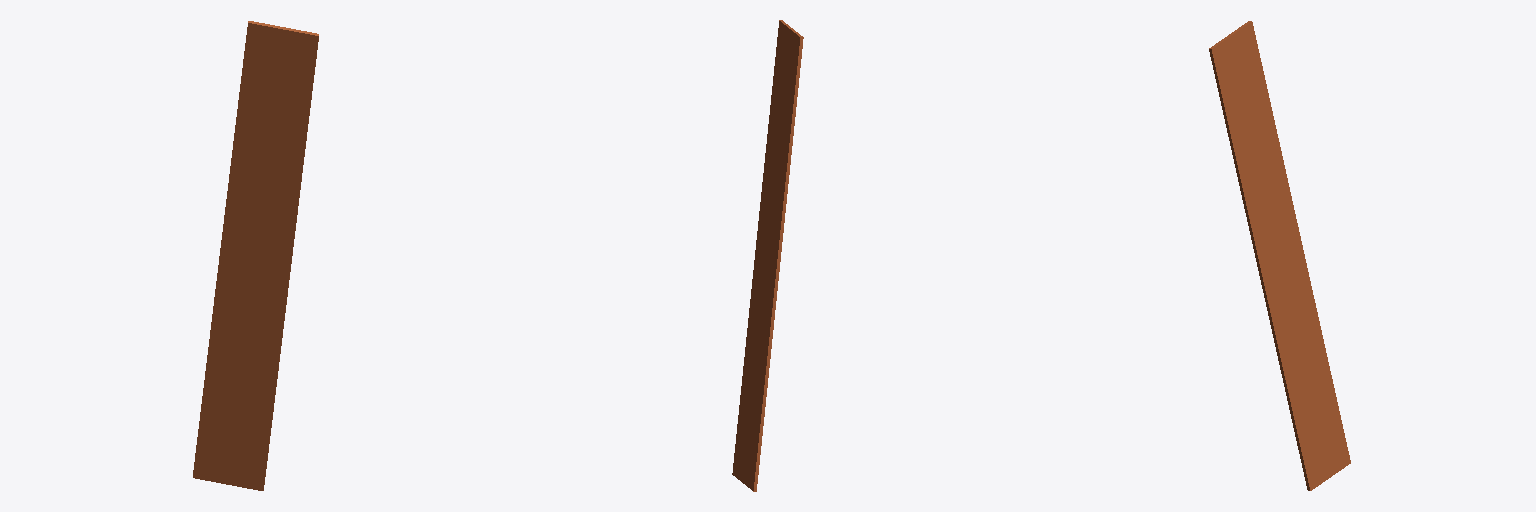
The robot description file, URDF, robot "panda_arm_bat":
<?xml version='1.0' encoding='utf-8'?>
<robot name="panda_arm_bat">

	<link name="link0">
		<inertial>
			<origin xyz="0 0 0.05" rpy="0 0 0" />
			<mass value="4" />
			<inertia ixx="0.4" iyy="0.4" izz="0.4" ixy="0" ixz="0" iyz="0" />
		</inertial>
		<visual>
			<geometry>
				<mesh filename="meshes/visual/link0.obj"/>
			</geometry>
		</visual>
		<!-- <collision>
			<geometry>
				<mesh filename="meshes/collision/link0.obj"/>
			</geometry>
		</collision> -->
	</link>
	<link name="link1">
		<inertial>
			<origin xyz="0 0 -0.07" rpy="0 -0 0" />
			<mass value="3" />
			<inertia ixx="0.3" iyy="0.3" izz="0.3" ixy="0" ixz="0" iyz="0" />
		</inertial>
		<visual>
			<geometry>
				<mesh filename="meshes/visual/link1.obj"/>
			</geometry>
		</visual>
		<!-- <collision>
			<geometry>
				<mesh filename="meshes/collision/link1.obj"/>
			</geometry>
		</collision> -->
	</link>
	<link name="link2">
		<inertial>
			<origin xyz="0 -0.1 0" rpy="0 -0 0" />
			<mass value="3" />
			<inertia ixx="0.3" iyy="0.3" izz="0.3" ixy="0" ixz="0" iyz="0" />
		</inertial>
		<visual>
			<geometry>
				<mesh filename="meshes/visual/link2.obj"/>
			</geometry>
		</visual>
		<!-- <collision>
			<geometry>
				<mesh filename="meshes/collision/link2.obj"/>
			</geometry>
		</collision> -->
	</link>
	<link name="link3">
		<inertial>
			<origin xyz="0.04 0 -0.05" rpy="0 -0 0" />
			<mass value="2" />
			<inertia ixx="0.2" iyy="0.2" izz="0.2" ixy="0" ixz="0" iyz="0" />
		</inertial>
		<visual>
			<geometry>
				<mesh filename="meshes/visual/link3.obj"/>
			</geometry>
		</visual>
		<!-- <collision>
			<geometry>
				<mesh filename="meshes/collision/link3.obj"/>
			</geometry>
		</collision> -->
	</link>
	<link name="link4">
		<inertial>
			<origin xyz="-0.04 0.05 0" rpy="0 -0 0" />
			<mass value="2" />
			<inertia ixx="0.2" iyy="0.2" izz="0.2" ixy="0" ixz="0" iyz="0" />
		</inertial>
		<visual>
			<geometry>
				<mesh filename="meshes/visual/link4.obj"/>
			</geometry>
		</visual>
		<!-- <collision>
			<geometry>
				<mesh filename="meshes/collision/link4.obj"/>
			</geometry>
		</collision> -->
	</link>
	<link name="link5">
		<inertial>
			<origin xyz="0 0 -0.15" rpy="0 -0 0" />
			<mass value="2" />
			<inertia ixx="0.2" iyy="0.2" izz="0.2" ixy="0" ixz="0" iyz="0" />
		</inertial>
		<visual>
			<geometry>
				<mesh filename="meshes/visual/link5.obj"/>
			</geometry>
		</visual>
		<!-- <collision>
			<geometry>
				<mesh filename="meshes/collision/link5.obj"/>
			</geometry>
		</collision> -->
	</link>
	<link name="link6">
		<inertial>
			<origin xyz="0.06 0 0" rpy="0 -0 0" />
			<mass value="1.5" />
			<inertia ixx="0.1" iyy="0.1" izz="0.1" ixy="0" ixz="0" iyz="0" />
		</inertial>
		<visual>
			<geometry>
				<mesh filename="meshes/visual/link6.obj"/>
			</geometry>
		</visual>
		<!-- <collision>
			<geometry>
				<mesh filename="meshes/collision/link6.obj"/>
			</geometry>
		</collision> -->
	</link>
	<link name="link7">
		<inertial>
			<origin xyz="0 0 0.17" rpy="0 -0 0" />
			<mass value="1.8" />
			<inertia ixx="0.09" iyy="0.05" izz="0.07" ixy="0" ixz="0" iyz="0" />
		</inertial>
		<visual>
			<geometry>
				<mesh filename="meshes/visual/link7.obj"/>
			</geometry>
		</visual>
		<!-- <collision>
			<geometry>
				<mesh filename="meshes/collision/link7.obj"/>
			</geometry>
		</collision> -->
	</link>
		<link name="end-effector">
		<inertial>
			<origin xyz="0 0 0" rpy="0 0 0" />
			<mass value="5.0" />
			<inertia ixx="0.01" iyy="0.01" izz="0.01" ixy="0" ixz="0" iyz="0" />
		</inertial>
		<visual>
			<origin xyz="0 0 0.1" rpy="1.57 1.5708 0.7" />
			<!-- <geometry>
				<cylinder radius="0.05" length="1.1"/>
			</geometry> -->
			<geometry>
				<box size="1.35 .175 0.01" />
			</geometry>
			<!-- <geometry>
				<mesh filename="meshes/visual/Bat.obj" scale="0.05 0.05 0.05"/>
			</geometry> -->
			<material name="bat_color">
				<color rgba="0.74 0.43 0.26 1.0" />
			</material >
		</visual>
			
		<collision>
			<origin xyz="0 0 0.1" rpy="0.0 1.5708 -1.0472" />
			<!-- <geometry>
				<cylinder radius="0.05" length="1.1"/>
			</geometry> -->
			<geometry>
				<box size="1.35 .175 0.01" />
			</geometry>
		</collision>
	</link>


	<joint name="joint1" type="revolute">
		<safety_controller k_position="100.0" k_velocity="40.0" soft_lower_limit="-2.8973" soft_upper_limit="2.8973"/>
		<origin rpy="0 0 0" xyz="0 0 0.333"/>
		<parent link="link0"/>
		<child link="link1"/>
		<axis xyz="0 0 1"/>
		<calibration falling="0.0" />
		<limit effort="87" lower="-2.8973" upper="2.8973" velocity="2.1750"/>
		
	</joint>
	<joint name="joint2" type="revolute">
		<safety_controller k_position="100.0" k_velocity="40.0" soft_lower_limit="-1.7628" soft_upper_limit="1.7628"/>
		<origin rpy="-1.57079632679 0 0" xyz="0 0 0"/>
		<parent link="link1"/>
		<child link="link2"/>
		<axis xyz="0 0 1"/>
		<calibration falling="-25.0" />
		<limit effort="87" lower="-1.7628" upper="1.7628" velocity="2.1750"/>
	</joint>
	<joint name="joint3" type="revolute">
		<safety_controller k_position="100.0" k_velocity="40.0" soft_lower_limit="-2.8973" soft_upper_limit="2.8973"/>
		<origin rpy="1.57079632679 0 0" xyz="0 -0.316 0"/>
		<parent link="link2"/>
		<child link="link3"/>
		<axis xyz="0 0 1"/>
		<limit effort="87" lower="-2.8973" upper="2.8973" velocity="2.1750"/>
	</joint>
	<joint name="joint4" type="revolute">
		<safety_controller k_position="100.0" k_velocity="40.0" soft_lower_limit="-3.0718" soft_upper_limit="-0.0698"/>
		<origin rpy="1.57079632679 0 0" xyz="0.0825 0 0"/>
		<parent link="link3"/>
		<child link="link4"/>
		<axis xyz="0 0 1"/>
		<calibration falling="-135.0" />
		<limit effort="87" lower="-3.0718" upper="-0.0698" velocity="2.1750"/>
	</joint>
	<joint name="joint5" type="revolute">
		<safety_controller k_position="100.0" k_velocity="40.0" soft_lower_limit="-2.8973" soft_upper_limit="2.8973"/>
		<origin rpy="-1.57079632679 0 0" xyz="-0.0825 0.384 0"/>
		<parent link="link4"/>
		<child link="link5"/>
		<axis xyz="0 0 1"/>
		<calibration falling="0.0" />
		<limit effort="12" lower="-2.8973" upper="2.8973" velocity="2.6100"/>
	</joint>
	<joint name="joint6" type="revolute">
		<safety_controller k_position="100.0" k_velocity="40.0" soft_lower_limit="-0.0175" soft_upper_limit="3.7525"/>
		<origin rpy="1.57079632679 0 0" xyz="0 0 0"/>
		<parent link="link5"/>
		<child link="link6"/>
		<axis xyz="0 0 1"/>
		<calibration falling="105.0" />
		<limit effort="12" lower="-0.0175" upper="3.7525" velocity="2.6100"/>
	</joint>
	<joint name="joint7" type="revolute">
		<safety_controller k_position="100.0" k_velocity="40.0" soft_lower_limit="-2.8973" soft_upper_limit="2.8973"/>
		<origin rpy="1.57079632679 0 0" xyz="0.088 0 0"/>
		<parent link="link6"/>
		<child link="link7"/>
		<axis xyz="0 0 1"/>
		<limit effort="12" lower="-2.8973" upper="2.8973" velocity="2.6100"/>
	</joint>
	<joint name="joint_ee" type="fixed">
		<origin rpy="0 1.5708 -0.2" xyz="0.55 0 0.13"/> 
		<parent link="link7"/>
		<child link="end-effector"/>
	</joint>


</robot>

--- What the picture shows (computed from the rendered views, not written in the file) ---
The picture shows the robot from 3 angles, left to right: view 1: azimuth 30°, elevation 25°; view 2: azimuth 150°, elevation 25°; view 3: azimuth 270°, elevation 25°; orthographic projection.
Robot: panda_arm_bat — 9 links, 8 joints (7 revolute, 1 fixed); root link link0; default pose: all joints at 0 but 1 set to mid-range because 0 is outside their limits (joint4 = -1.57).
Links seen in each view (by area): view 1: end-effector; view 2: end-effector; view 3: end-effector.
Link boxes in pixels (<box>): end-effector: <box>193,21,318,490</box>; end-effector: <box>732,20,803,491</box>; end-effector: <box>1209,21,1350,490</box>.
Bounding box of the posed robot: 0.1402 × 0.3863 × 1.35 m (x, y, z).
0 mesh visuals loaded from 8 distinct referenced files (none loaded); not drawn: 8 (reference not matched to a file when rendering).